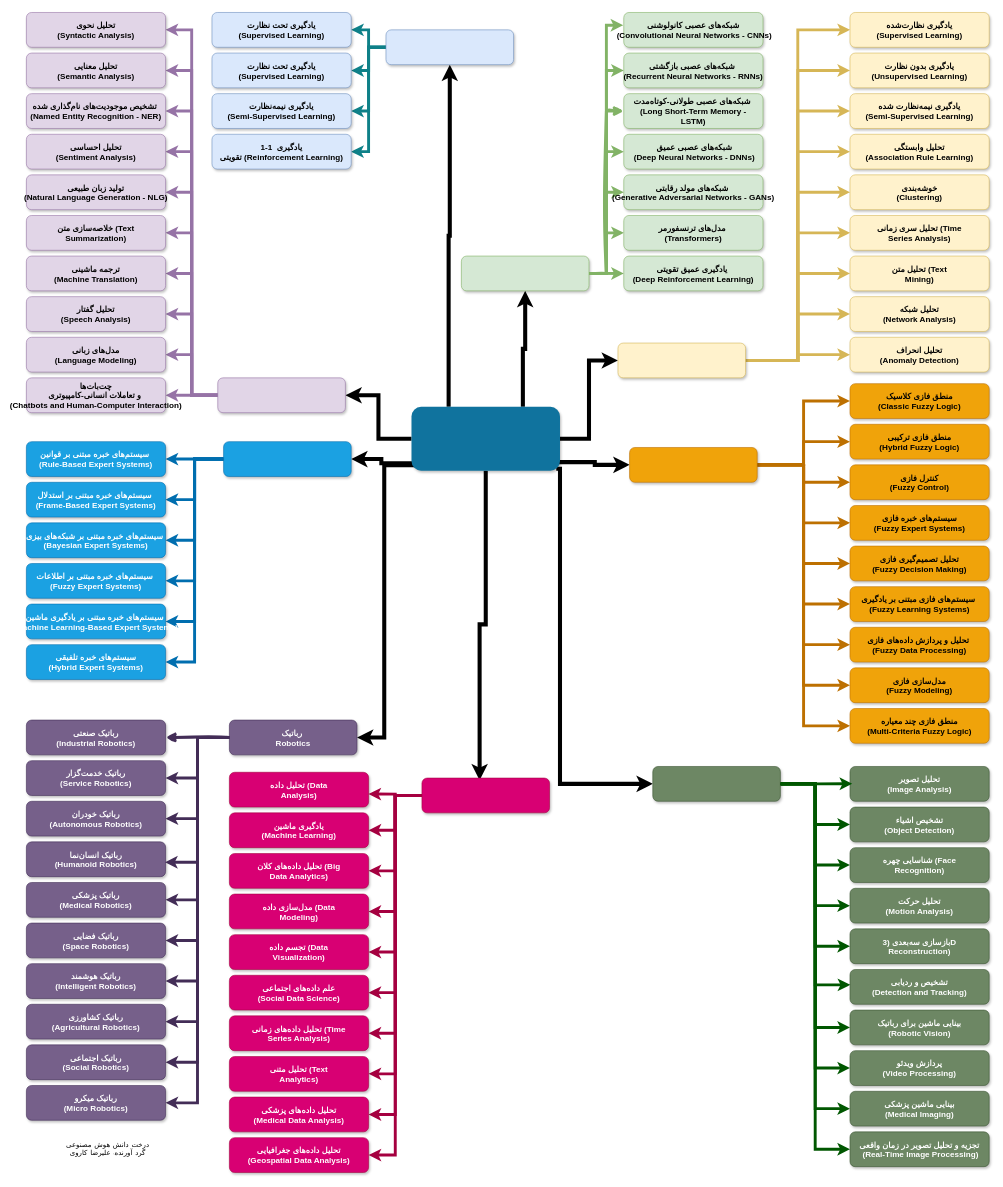
Some shapes in this 1003 by 1187 pixel diagram are drawn without their labels. The centre of each missing label's shape, as x and y in pixels:
"Artificial Intelligence هوش مصنوعی" goes at (486,439).
"بینایی ماشین Computer Vision" goes at (717,784).
"داده کاوی Data Mining" goes at (682,361).
"سیستم خبره Expert System" goes at (288,460).
"علم داده Data Science" goes at (486,796).
"منطق فازی Fuzzy Logic" goes at (694,465).
"پردازش زبان طبیعی NLP" goes at (282,396).
"یادگیری عمیق Deep Learning" goes at (525,274).
"یادگیری ماشین Machine Learning" goes at (450,48).
